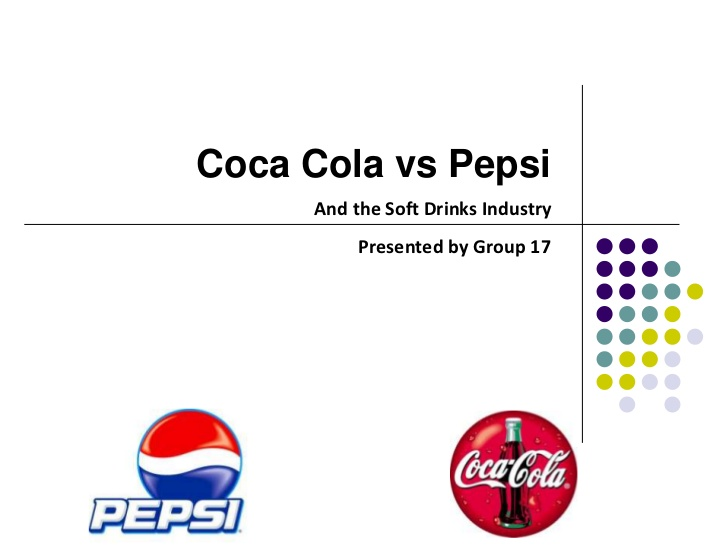pepsi: (132, 408, 242, 500)
